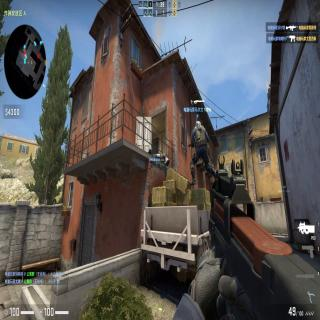CT-Body: (190, 119, 210, 172)
CT-Head: (194, 120, 202, 128)
